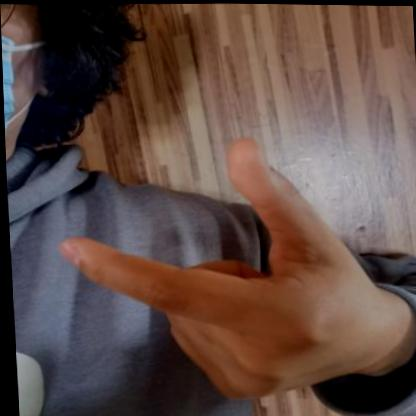G: (50, 123, 390, 416)
